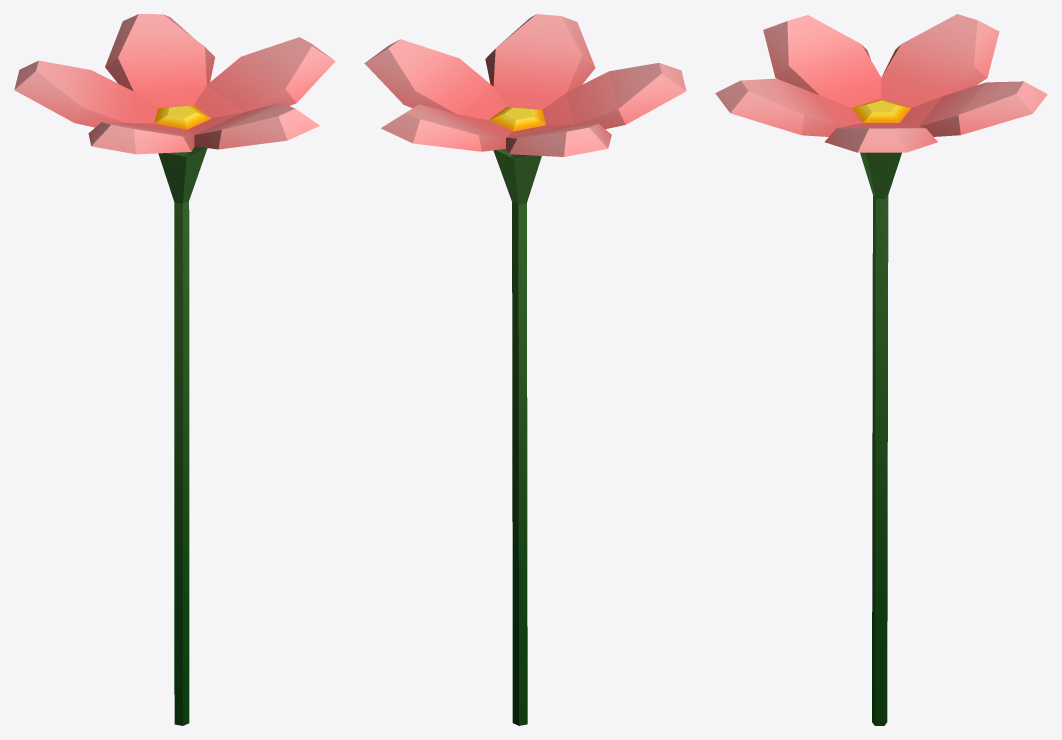
The model's file is Flower_Pink_01.fbx.
3 views of the same model, side by side, from view 1: azimuth 30°, elevation 25°; view 2: azimuth 150°, elevation 25°; view 3: azimuth 270°, elevation 25° (orthographic).
Visible parts, largest first — view 1: Flower_Pink_01; view 2: Flower_Pink_01; view 3: Flower_Pink_01.
Boxes of the visible parts, bbox=[...] form: Flower_Pink_01: bbox=[14, 14, 335, 725]; Flower_Pink_01: bbox=[364, 14, 686, 725]; Flower_Pink_01: bbox=[715, 14, 1047, 725].
Bounding box in the file's own units: 19.65 × 44.98 × 20.65.
